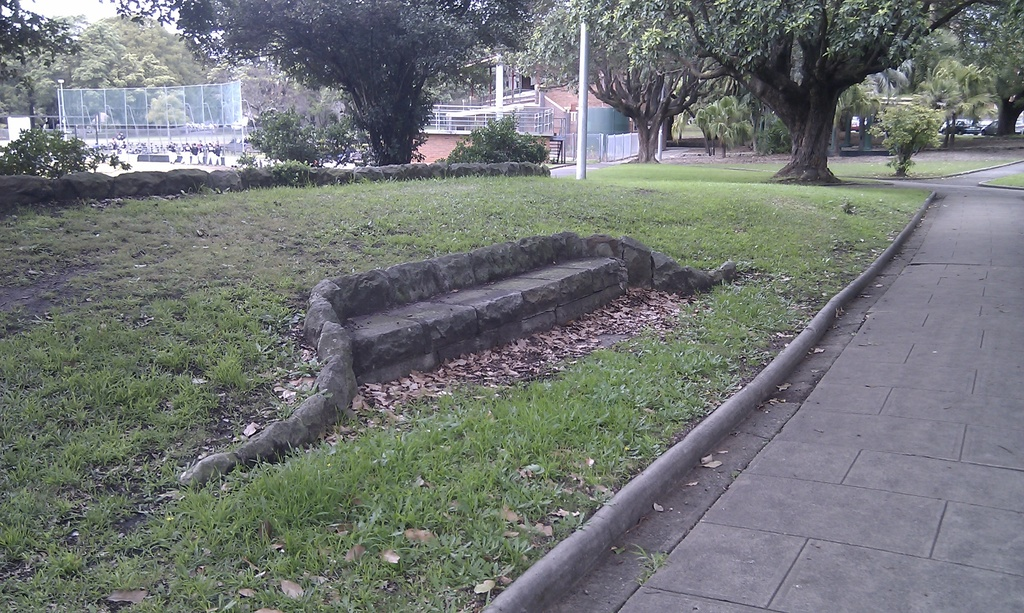Tree: (88, 0, 570, 172), (522, 0, 755, 167), (0, 12, 288, 129), (5, 0, 99, 178), (927, 0, 1023, 135)
